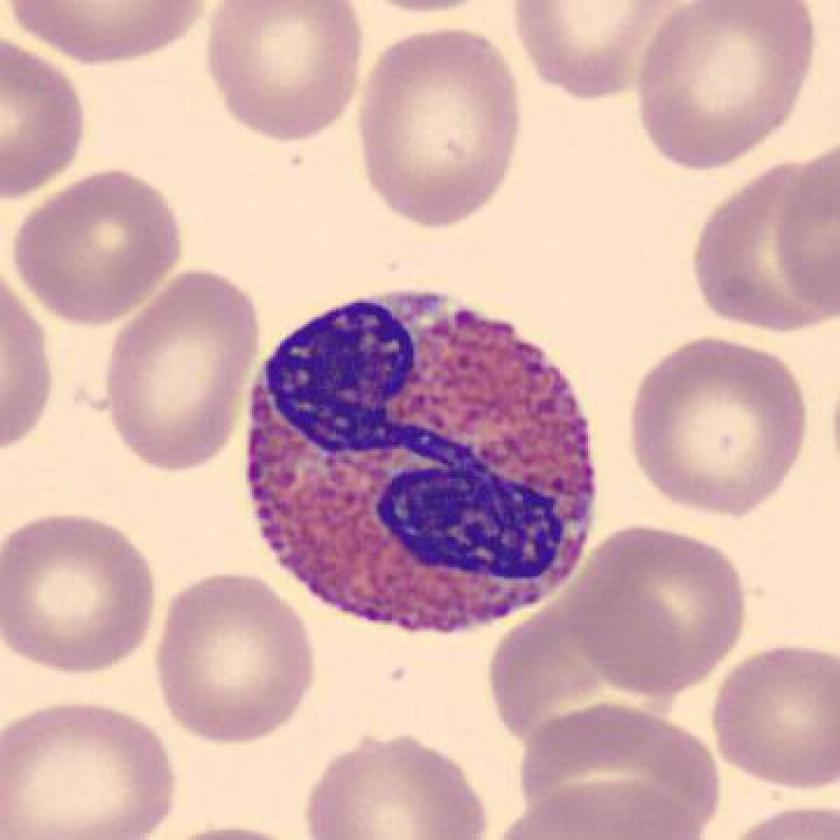eosinophil: (241, 274, 603, 647)
